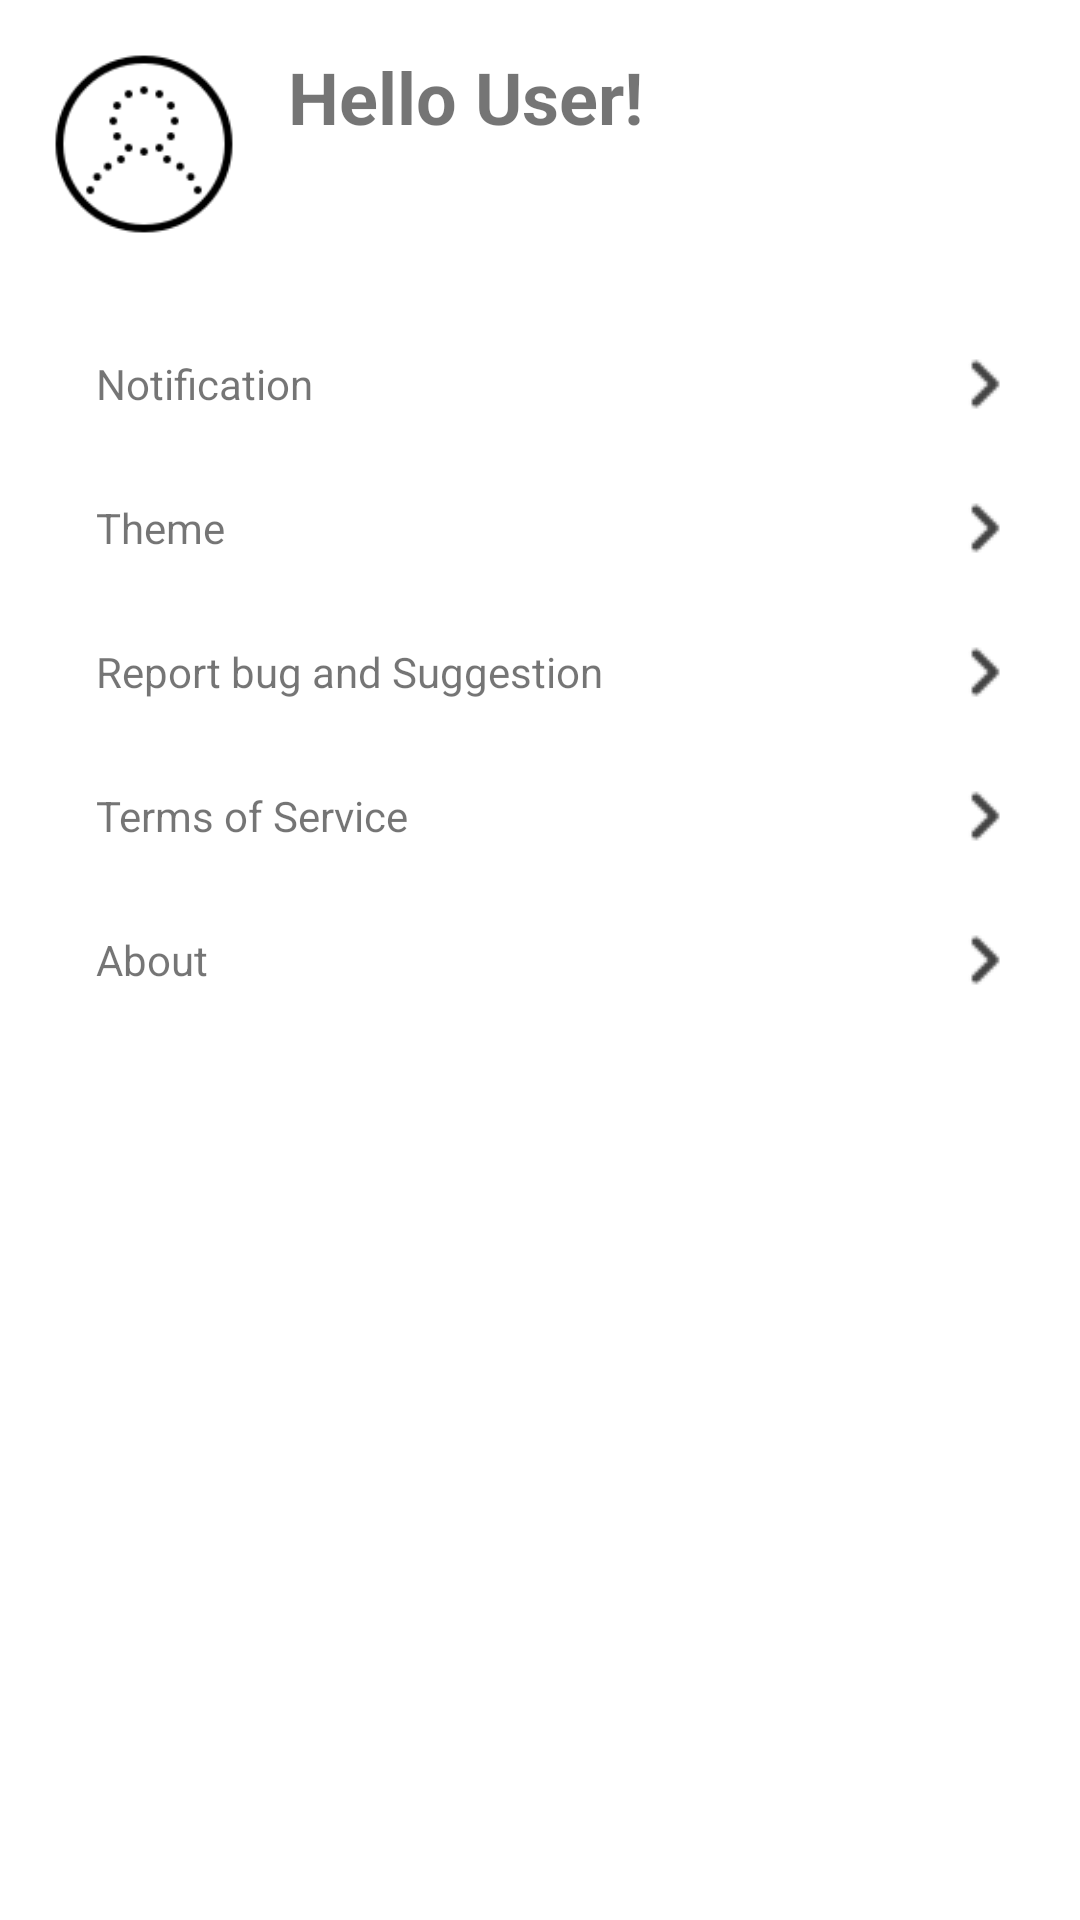

Named icons in this screenshot (1080w x 1920h) and their bounding boxes, [x1,y1,x2,y2]:
profile: [55,55,233,233]
